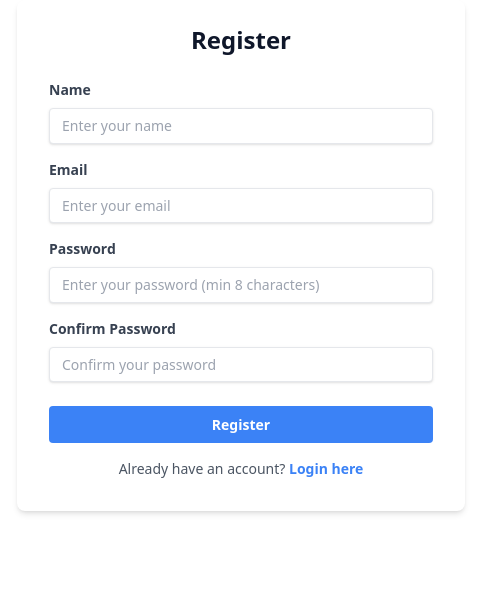
Test: RegisterForm › should show validation error for empty name
Click the button "Register" at (241, 424), box [49,406,433,443]
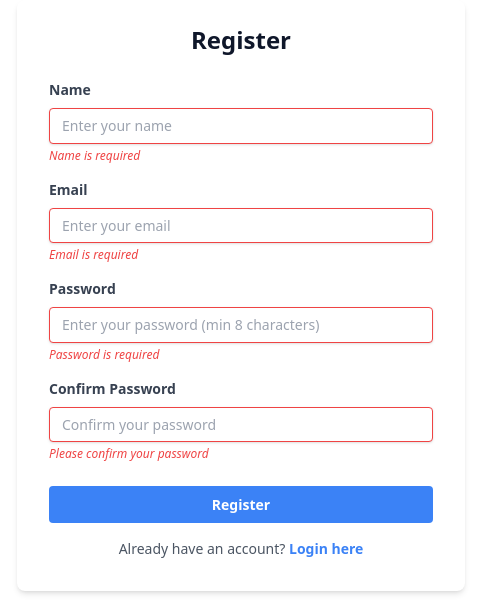
Check: the text "Name is required" is shown, box [49,146,140,164]
